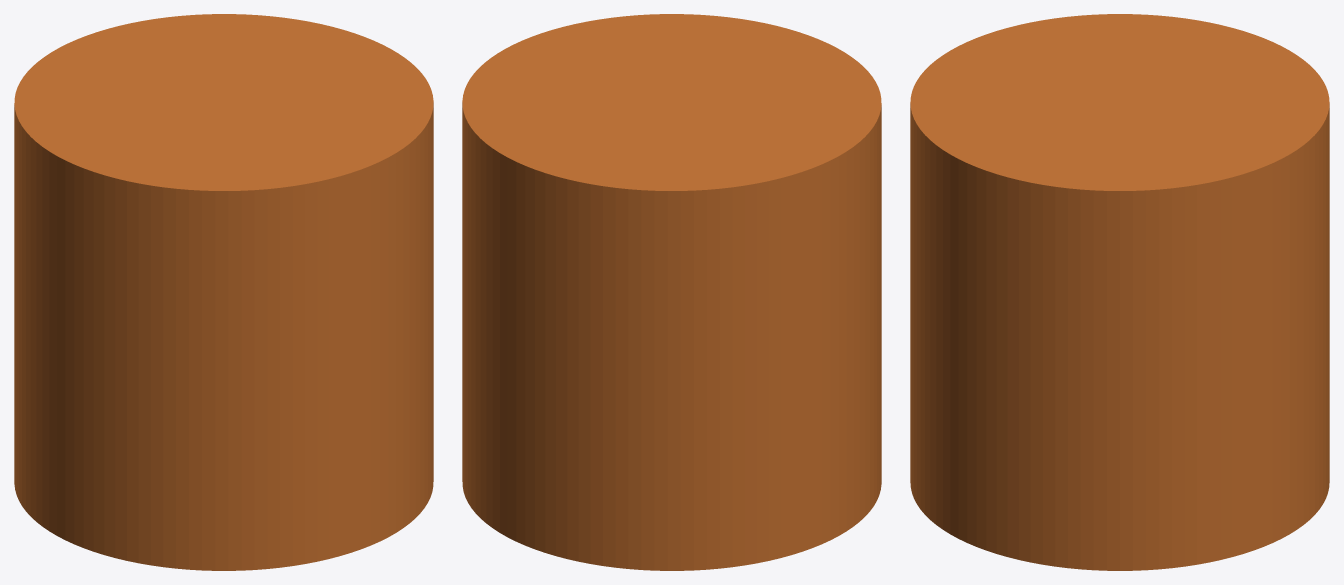
Rendered from CylinderO.fbx.
The picture shows the model from 3 angles, left to right: view 1: azimuth 30°, elevation 25°; view 2: azimuth 150°, elevation 25°; view 3: azimuth 270°, elevation 25°; orthographic projection.
Parts seen in each view (by area): view 1: CylinderO; view 2: CylinderO; view 3: CylinderO.
Boxes of the visible parts, x1=… form: CylinderO: x1=14, y1=14, x2=433, y2=570; CylinderO: x1=462, y1=14, x2=881, y2=570; CylinderO: x1=910, y1=14, x2=1329, y2=570.
Size of the model in its own units: 600 by 600 by 600.
